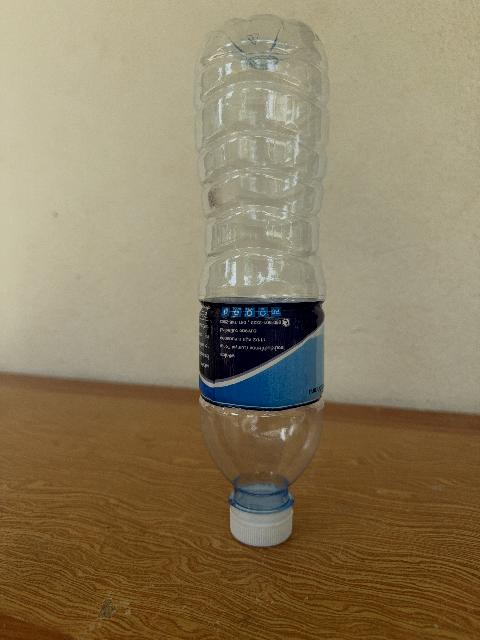bottle: (195, 15, 328, 546)
